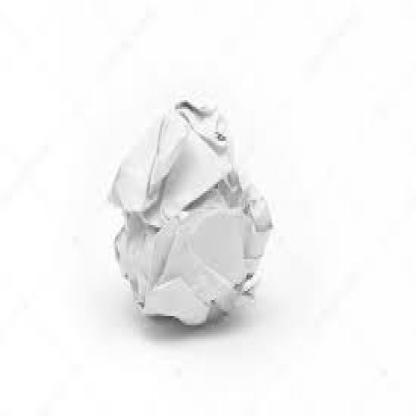paper: (107, 96, 271, 328)
